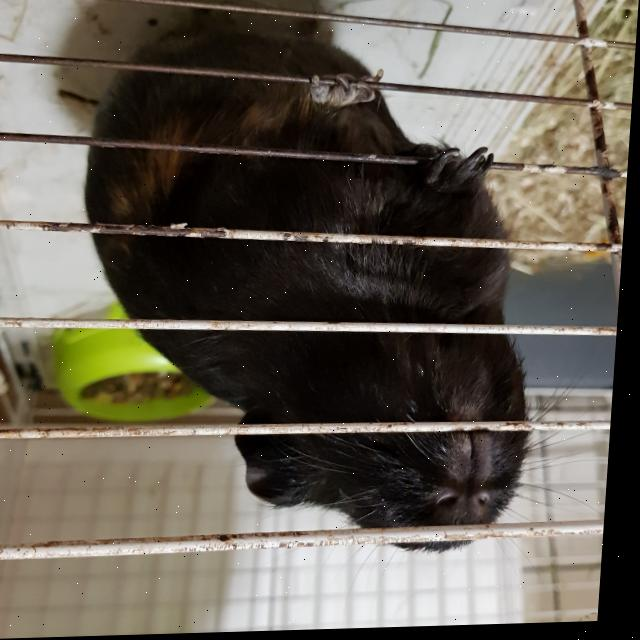guinea pig: (64, 7, 565, 569)
